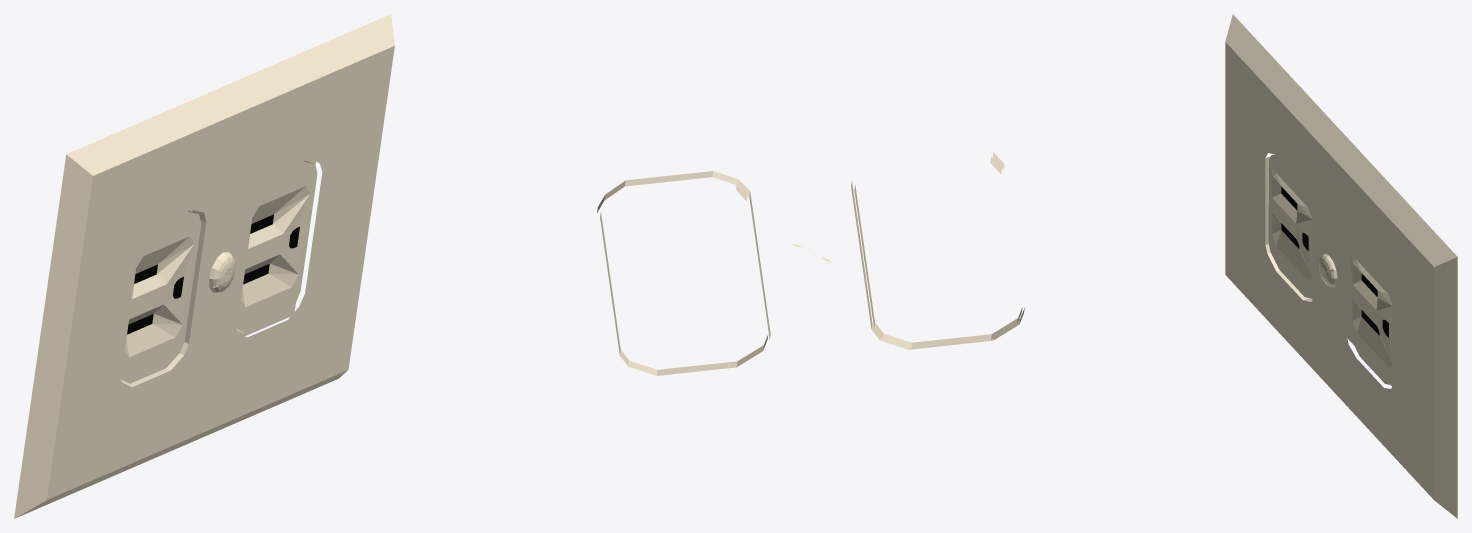
Rendered from OUTLET.glb.
The picture shows the model from 3 angles, left to right: view 1: azimuth 30°, elevation 25°; view 2: azimuth 150°, elevation 25°; view 3: azimuth 270°, elevation 25°; orthographic projection. The views are drawn at different scales.
Visible parts, largest first — view 1: _0; view 2: _0; view 3: _0.
Boxes of the visible parts, x1=… form: _0: x1=14, y1=14, x2=394, y2=518; _0: x1=597, y1=152, x2=1024, y2=375; _0: x1=1225, y1=14, x2=1457, y2=518.
Bounding box in the file's own units: 7.82 × 6.17 × 3.79.
